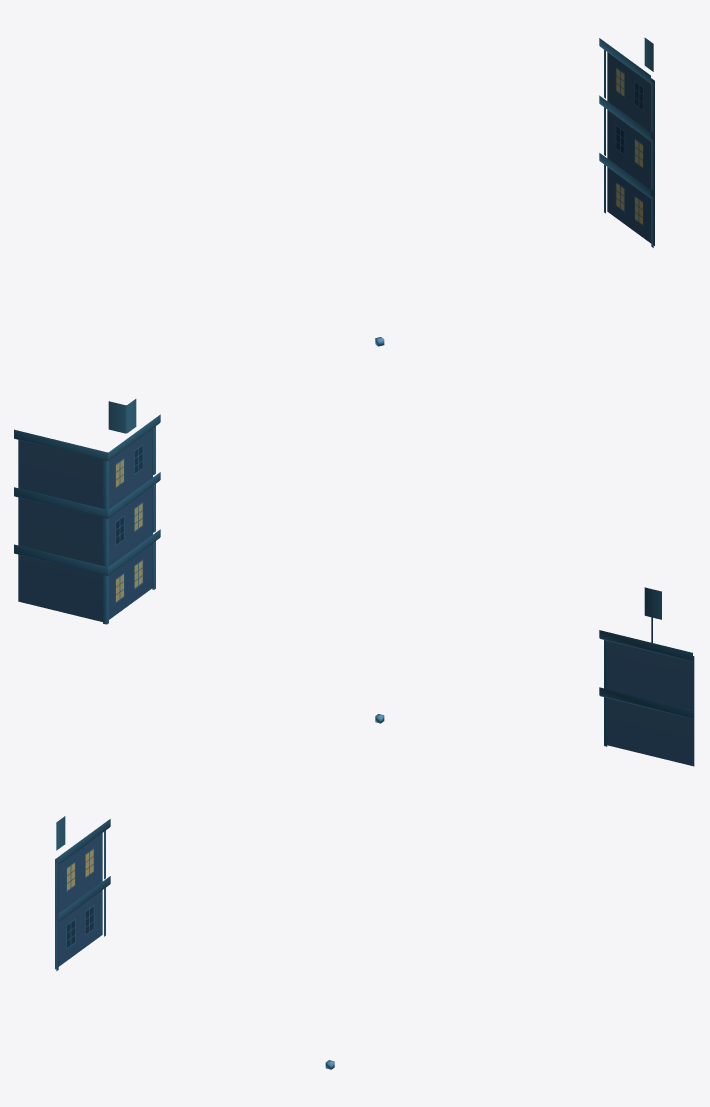
Rendered from FarBackBuilding01Night.glb.
3 renders of one model, top to bottom at view 1: azimuth 30°, elevation 25°; view 2: azimuth 150°, elevation 25°; view 3: azimuth 330°, elevation 25°, orthographic.
Visible parts, largest first — view 1: FarBackBuilding01Night; view 2: FarBackBuilding01Night; view 3: FarBackBuilding01Night.
Boxes of the visible parts, x1,y1,x2,y2 form: FarBackBuilding01Night: (375, 37, 654, 346); FarBackBuilding01Night: (14, 399, 694, 766); FarBackBuilding01Night: (55, 816, 334, 1069).
Bounding box in the file's own units: 76.34 × 26.74 × 10.17.
